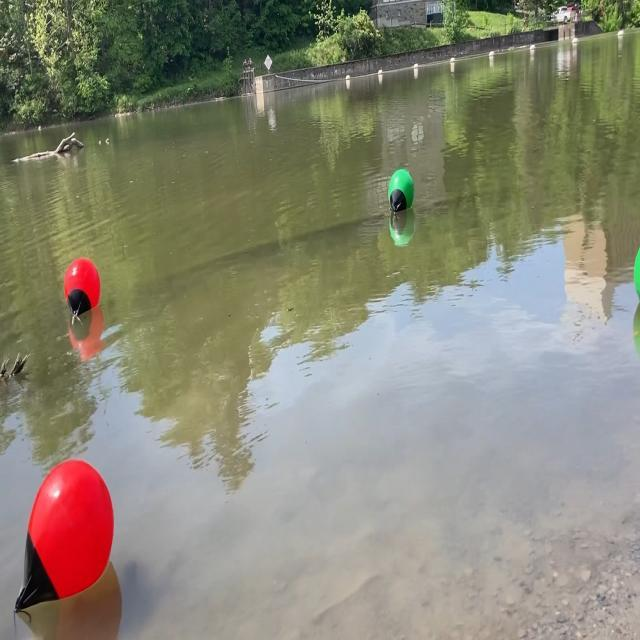buoy: (12, 455, 122, 611), (62, 255, 102, 322), (387, 166, 415, 216), (630, 238, 639, 312)
